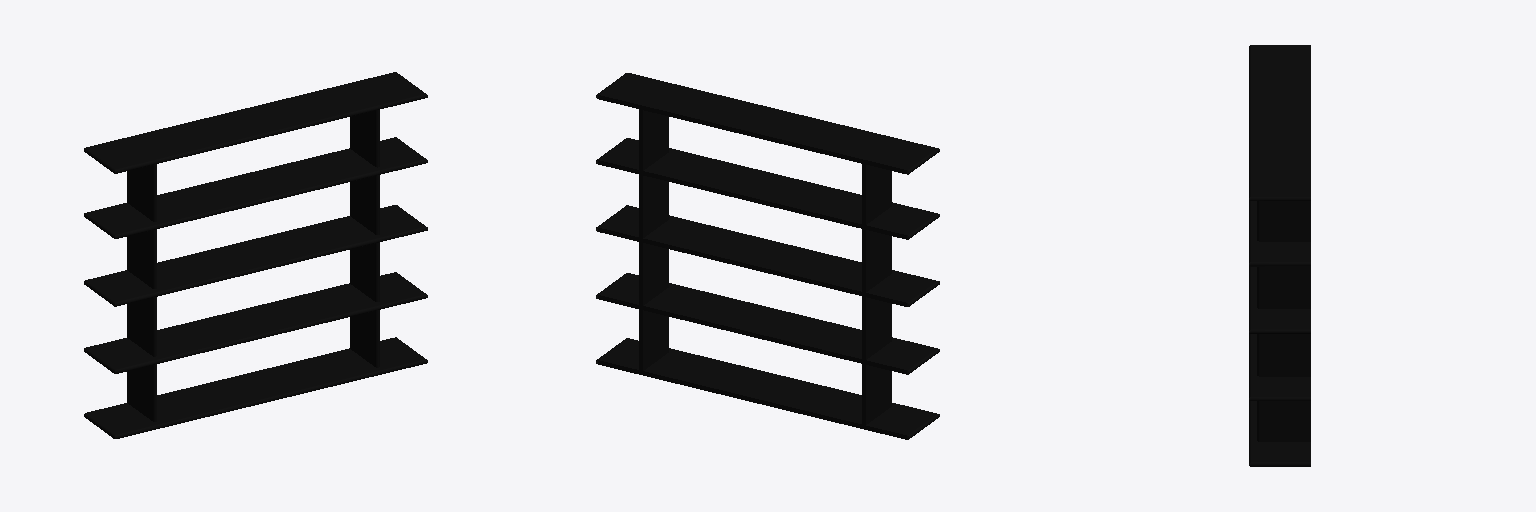
The model's file is Книжный стеллаж.obj.
3 views of the same model, side by side, from view 1: azimuth 30°, elevation 25°; view 2: azimuth 150°, elevation 25°; view 3: azimuth 270°, elevation 25° (orthographic).
Visible parts, largest first — view 1: BookCase_18, BookCase_21, BookCase_20, BookCase_22, BookCase_19, BookCase_23, BookCase_24, BookCase_12, BookCase_15, BookCase_9, BookCase_3, BookCase_6 (+2 smaller); view 2: BookCase_18, BookCase_19, BookCase_22, BookCase_21, BookCase_20, BookCase_24, BookCase_23; view 3: BookCase_18, BookCase_24, BookCase_21, BookCase_20, BookCase_22, BookCase_19.
Boxes of the visible parts, <box> form: BookCase_18: <box>86,72,424,168</box>; BookCase_21: <box>86,272,423,368</box>; BookCase_20: <box>86,205,424,301</box>; BookCase_22: <box>87,137,423,233</box>; BookCase_19: <box>87,338,423,434</box>; BookCase_23: <box>127,165,152,420</box>; BookCase_24: <box>350,111,374,366</box>; BookCase_12: <box>115,294,427,373</box>; BookCase_15: <box>115,359,427,438</box>; BookCase_9: <box>115,227,427,306</box>; BookCase_3: <box>115,94,427,173</box>; BookCase_6: <box>115,159,427,238</box>; BookCase_18: <box>598,73,936,173</box>; BookCase_19: <box>598,338,935,439</box>; BookCase_22: <box>598,138,936,239</box>; BookCase_21: <box>598,273,936,374</box>; BookCase_20: <box>598,206,935,306</box>; BookCase_24: <box>639,109,668,370</box>; BookCase_23: <box>862,164,891,424</box>; BookCase_18: <box>1251,46,1310,196</box>; BookCase_24: <box>1260,201,1310,441</box>; BookCase_21: <box>1251,334,1310,396</box>; BookCase_20: <box>1251,267,1310,328</box>; BookCase_22: <box>1251,201,1310,261</box>; BookCase_19: <box>1251,401,1310,461</box>.
Bounding box in the file's own units: 182 × 150 × 31.25.